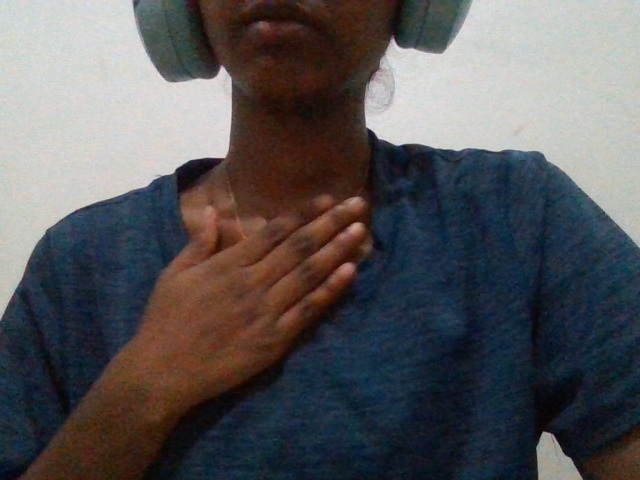Please: (67, 179, 437, 422)
